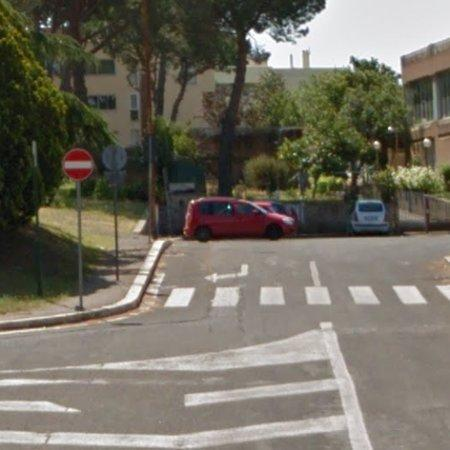crosswalk: (159, 282, 450, 311)
